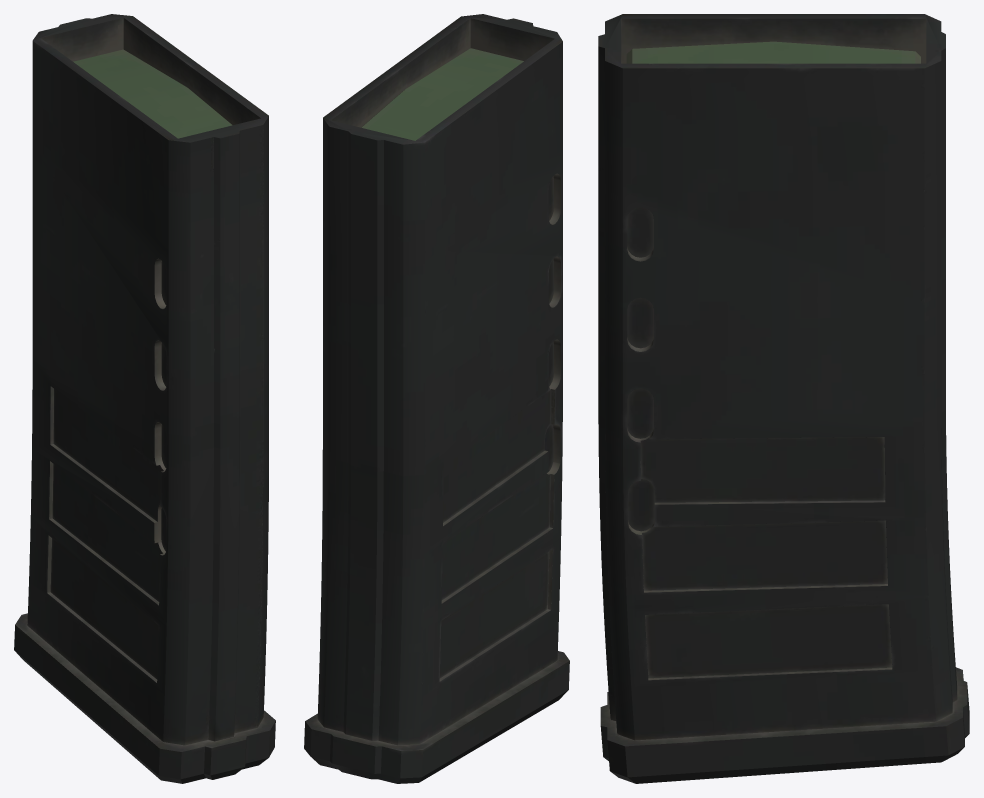
Rendered from carregador_ar10_20.glb.
The picture shows the model from 3 angles, left to right: view 1: azimuth 30°, elevation 25°; view 2: azimuth 150°, elevation 25°; view 3: azimuth 270°, elevation 25°; orthographic projection. The views are drawn at different scales.
Visible parts, largest first — view 1: carregador_ar10_20_carregador; view 2: carregador_ar10_20_carregador; view 3: carregador_ar10_20_carregador.
Boxes of the visible parts, left/top/right/bottom form: carregador_ar10_20_carregador: left=14, top=14, right=275, bottom=783; carregador_ar10_20_carregador: left=304, top=14, right=569, bottom=783; carregador_ar10_20_carregador: left=598, top=14, right=969, bottom=783.
Size of the model in its own units: 0.0295 by 0.1567 by 0.0736.
1 material, 1 textured.
